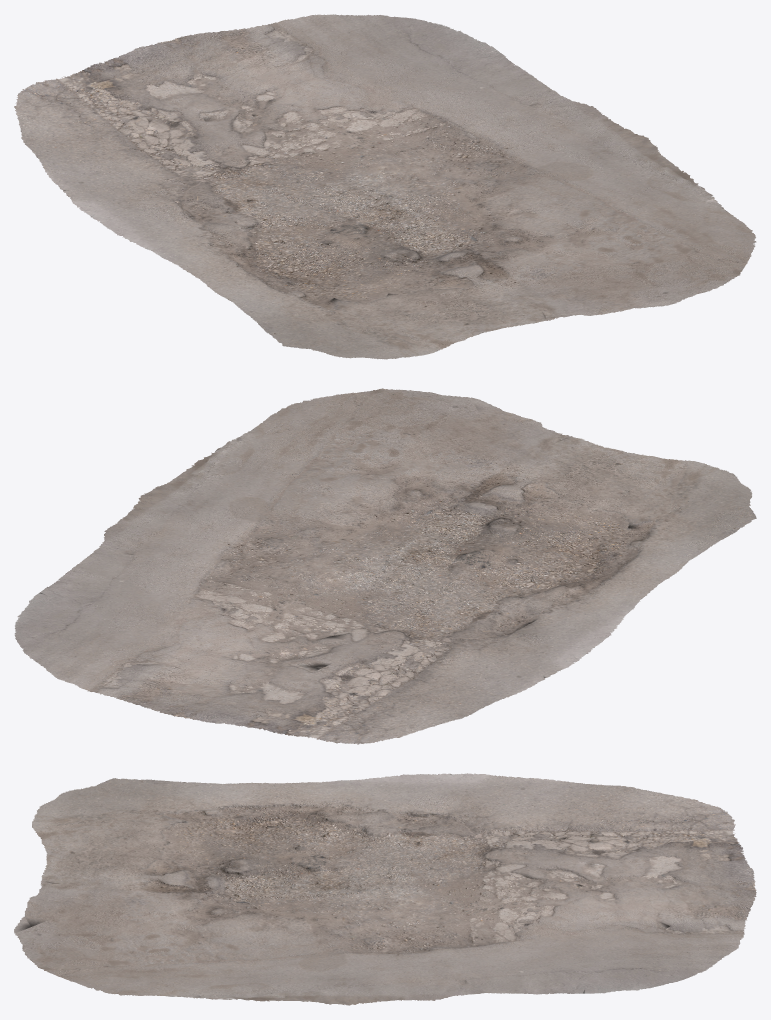
Rendered from cracked_asphalt_with_gravel_low_poly_-_free.glb.
The picture shows the model from 3 angles, top to bottom: view 1: azimuth 30°, elevation 25°; view 2: azimuth 150°, elevation 25°; view 3: azimuth 270°, elevation 25°; orthographic projection. The views are drawn at different scales.
Parts seen in each view (by area): view 1: Object_2; view 2: Object_2; view 3: Object_2.
Part boxes in pixels (x1,y1,x2,y2): Object_2: (14,14,756,359); Object_2: (14,388,756,744); Object_2: (14,773,756,1005).
Bounding box in the file's own units: 19.26 × 0.3596 × 26.47.
1 material, 1 textured.
